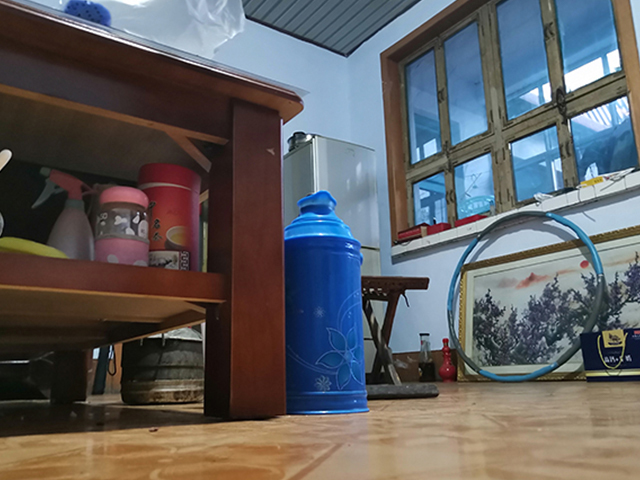stool: (359, 274, 441, 401)
table: (1, 1, 310, 422)
